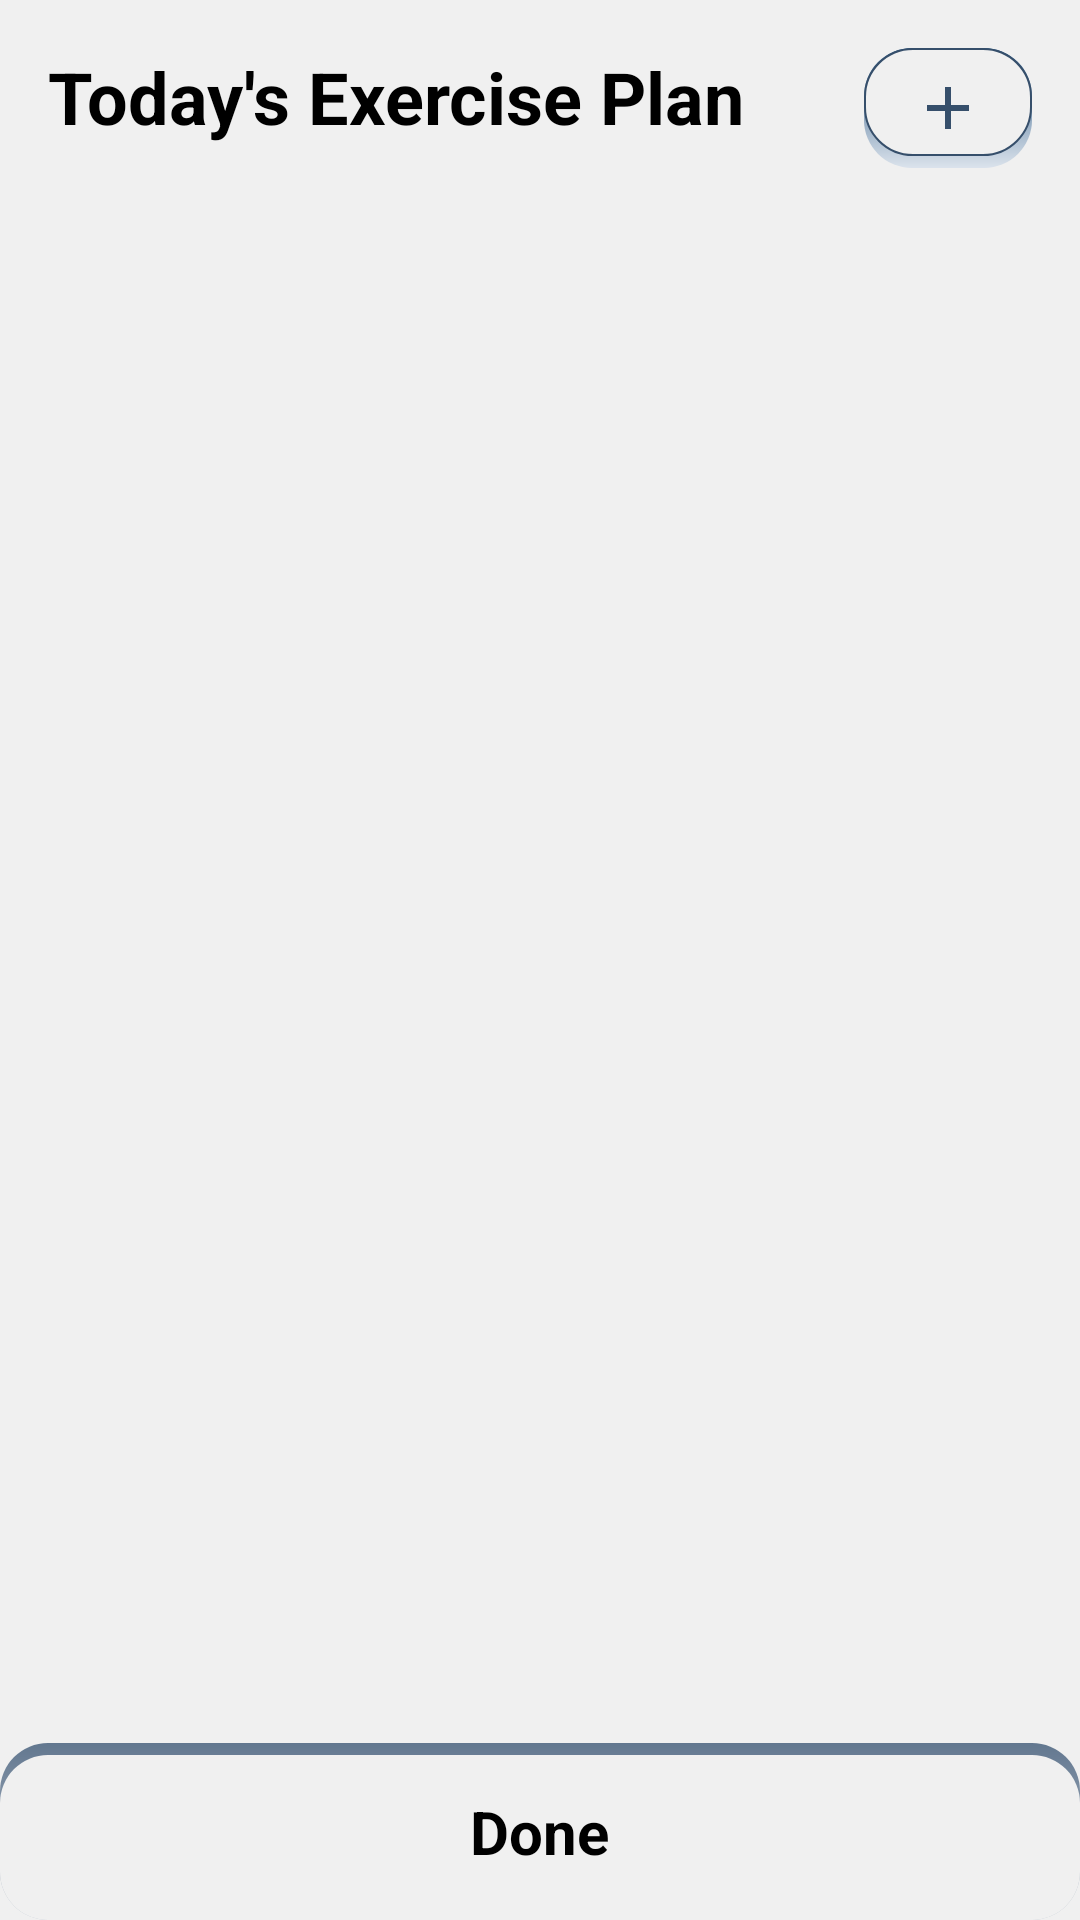

Screen size 1080px×1920px. Icon name, then its box in pixels as (x1=x1, y1=y1, x2=x2, y2=y2):
add: (x1=927, y1=87, x2=969, y2=129)
